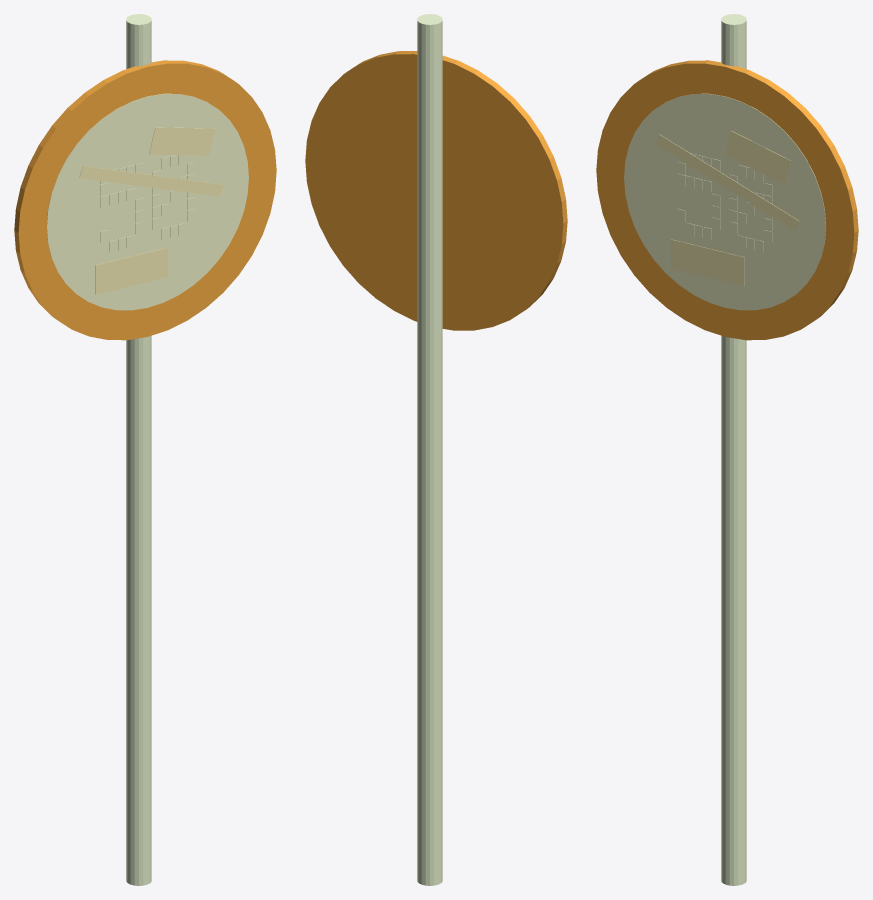
The model's file is sign_speed_limit_50_weathered.glb.
3 renders of one model, left to right at view 1: azimuth 30°, elevation 25°; view 2: azimuth 150°, elevation 25°; view 3: azimuth 330°, elevation 25°, orthographic.
Parts seen in each view (by area): view 1: layer_1_00, plate_base_00, pole, layer_3_01, layer_3_02, layer_3_00; view 2: plate_base_00, pole; view 3: layer_1_00, plate_base_00, pole, layer_3_01, layer_3_02, layer_3_00.
Boxes of the visible parts, x1=… form: layer_1_00: x1=46, y1=93, x2=248, y2=310; plate_base_00: x1=14, y1=60, x2=276, y2=340; pole: x1=126, y1=14, x2=151, y2=885; layer_3_01: x1=95, y1=247, x2=168, y2=294; layer_3_02: x1=79, y1=166, x2=223, y2=196; layer_3_00: x1=149, y1=127, x2=215, y2=155; plate_base_00: x1=305, y1=51, x2=567, y2=330; pole: x1=417, y1=14, x2=442, y2=885; layer_1_00: x1=624, y1=93, x2=826, y2=310; plate_base_00: x1=596, y1=60, x2=858, y2=340; pole: x1=721, y1=14, x2=746, y2=885; layer_3_01: x1=671, y1=239, x2=744, y2=286; layer_3_02: x1=655, y1=134, x2=799, y2=231; layer_3_00: x1=725, y1=130, x2=790, y2=184.
Size of the model in its own units: 0.69 by 2.2 by 0.074.
